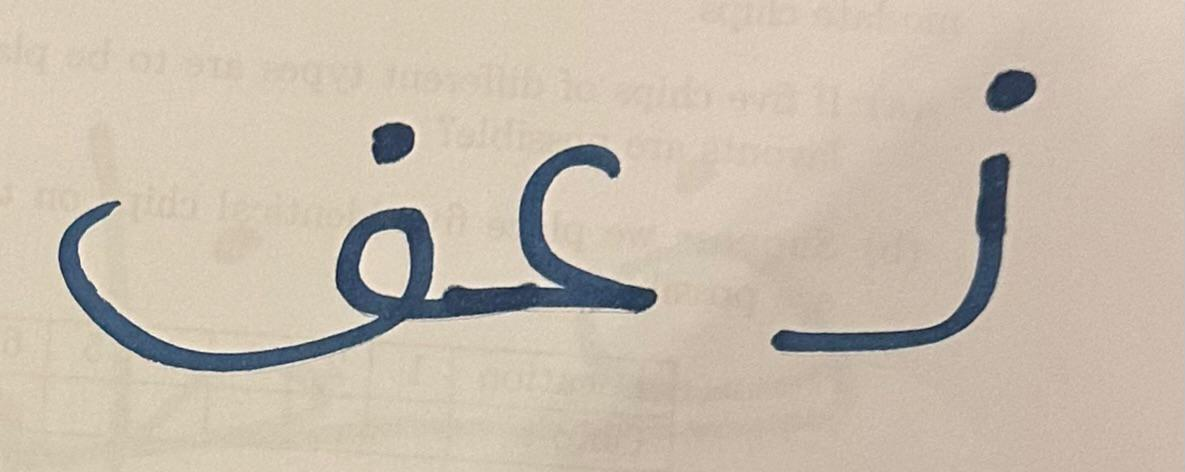ain: (717, 19, 1116, 420), (459, 29, 711, 409)
feh: (17, 60, 456, 429)
